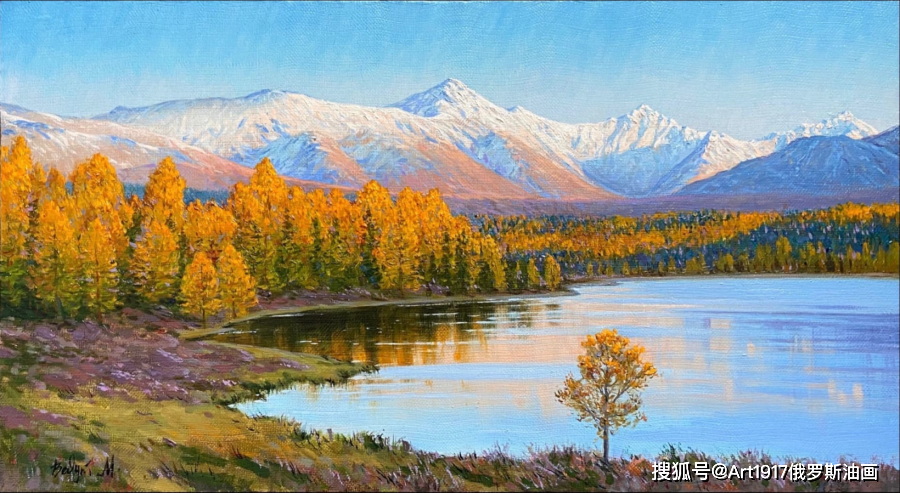mountain: (35, 81, 900, 205)
